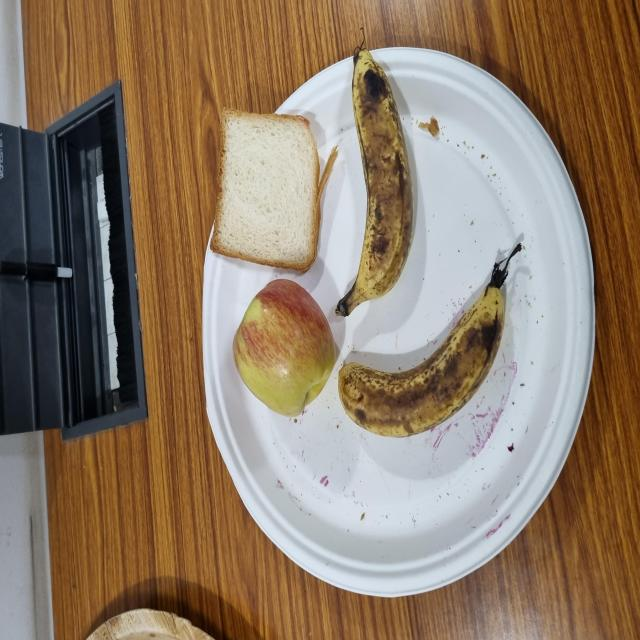apple: (165, 312, 272, 453)
banana: (150, 454, 261, 640), (243, 452, 438, 557)
